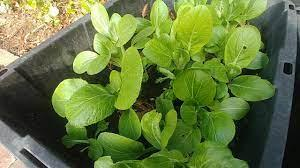Healthy-Pechay: (57, 1, 270, 165), (63, 83, 116, 129), (72, 50, 106, 76)
